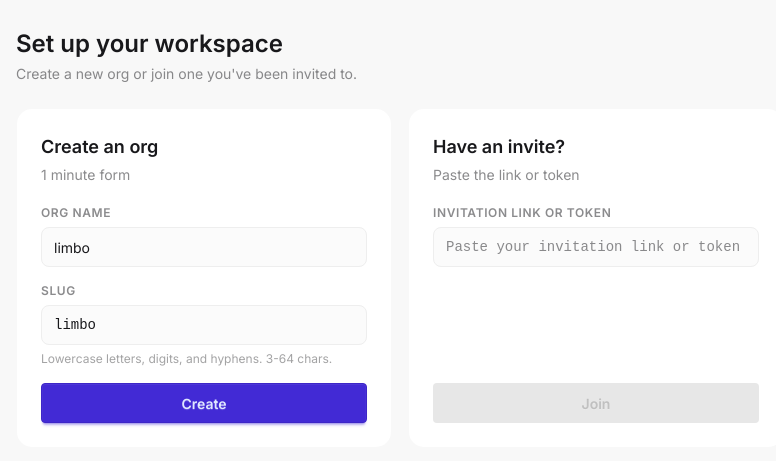
Test case: Onboarding wizard › create branch: shows slug-collision error on 409 from /orgs
The width and height of the screenshot is (776, 461).
Type "Acme" into the field with placeholder "e.g., Acme Inc." below "Org name" at (204,247), box [41,227,367,267]
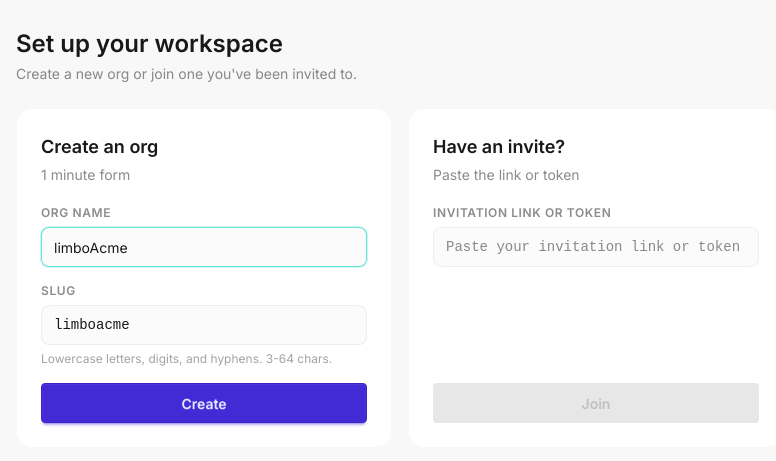
Replace the text in the field with placeholder "e.g., acme" below "Slug" with "acme" at (204,325), box [41,305,367,345]
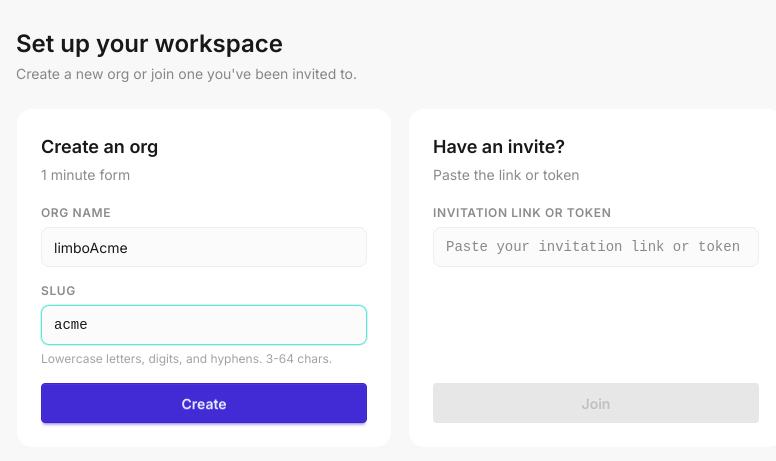
Click the button "Create" at (204,403), box [41,383,367,423]
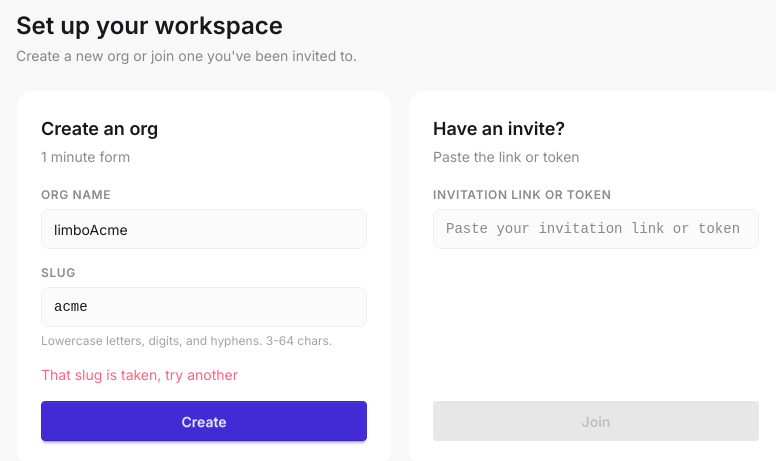
Expected: the text "That slug is taken, try another" is shown, [41,366,238,383]
